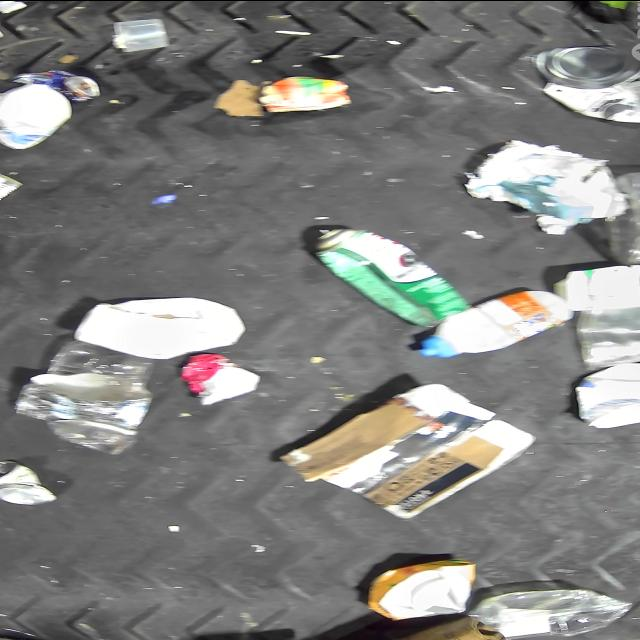can: (308, 224, 474, 326), (178, 352, 262, 404), (537, 46, 635, 86), (256, 74, 352, 112), (8, 66, 102, 100), (0, 460, 58, 504), (1, 164, 24, 211)
milk_jug: (72, 296, 246, 358), (553, 262, 640, 310)
non_white_jug: (573, 360, 640, 428)
plastic_bottle: (470, 586, 632, 638)
